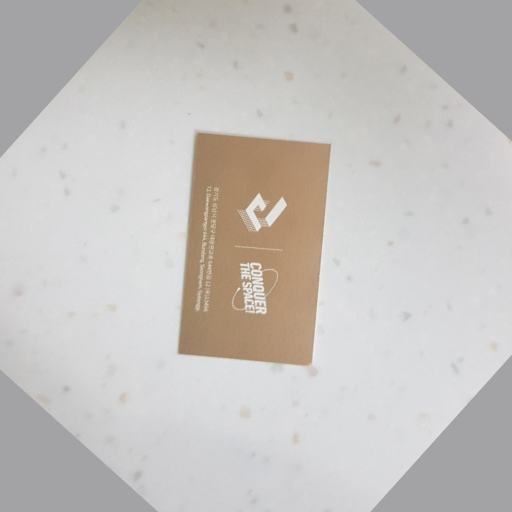Paper_2: (182, 129, 333, 383)
